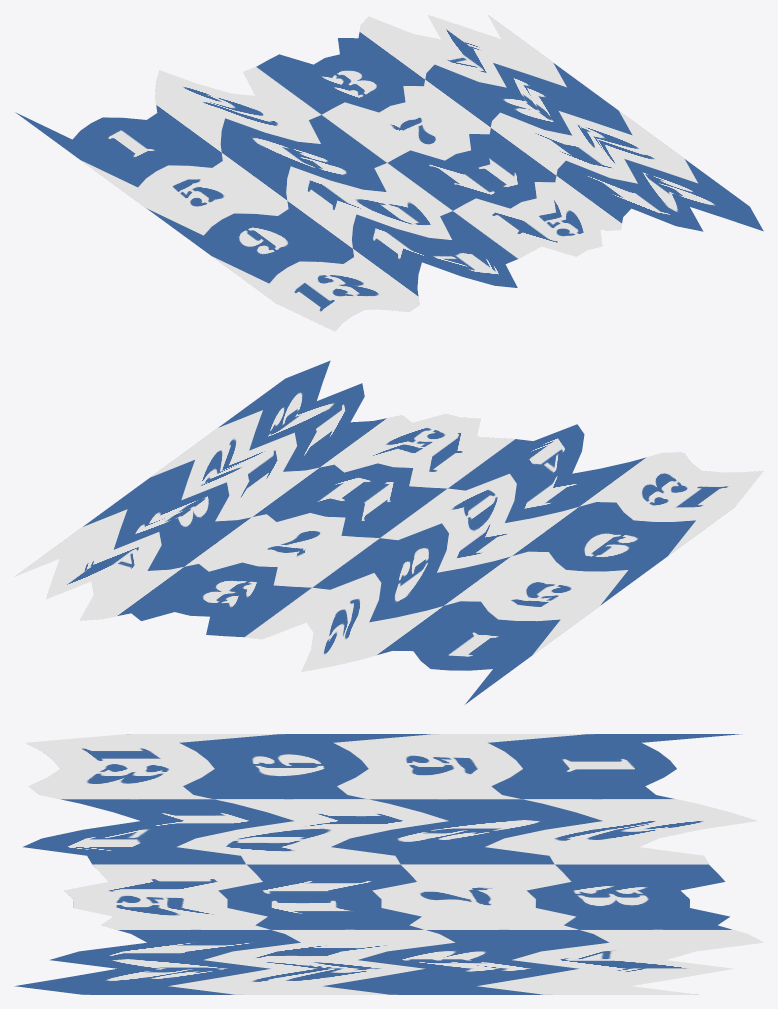
Rendered from Hi_Spl_Stone.fbx.
The picture shows the model from 3 angles, top to bottom: view 1: azimuth 30°, elevation 25°; view 2: azimuth 150°, elevation 25°; view 3: azimuth 270°, elevation 25°; orthographic projection. The views are drawn at different scales.
Visible parts, largest first — view 1: SM_d_e_P0001_V00_C00_SplHkr_c050_Stone_01; view 2: SM_d_e_P0001_V00_C00_SplHkr_c050_Stone_01; view 3: SM_d_e_P0001_V00_C00_SplHkr_c050_Stone_01.
Part boxes in pixels (x1,y1,x2,y2): SM_d_e_P0001_V00_C00_SplHkr_c050_Stone_01: (15, 14, 763, 331); SM_d_e_P0001_V00_C00_SplHkr_c050_Stone_01: (14, 360, 763, 705); SM_d_e_P0001_V00_C00_SplHkr_c050_Stone_01: (14, 734, 763, 994).
Bounding box in the file's own units: 100 × 1.49e-14 × 122.
